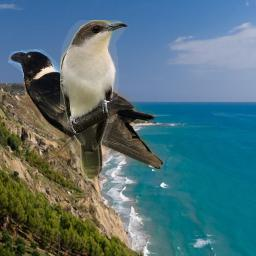Crow: (8, 47, 163, 169)
Cuckoo: (60, 20, 129, 182)
